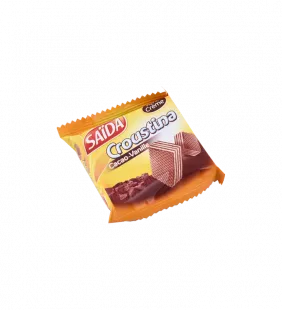CROUSTINA: (51, 77, 235, 229)
